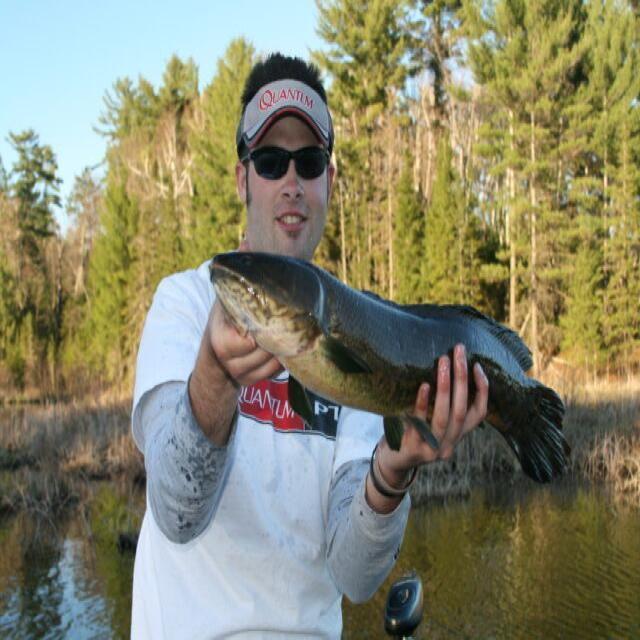Bowfin: (210, 251, 570, 481)
